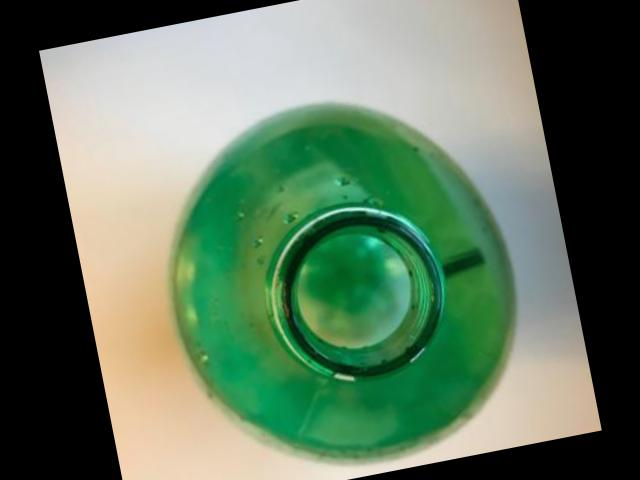plastic: (175, 105, 517, 462)
